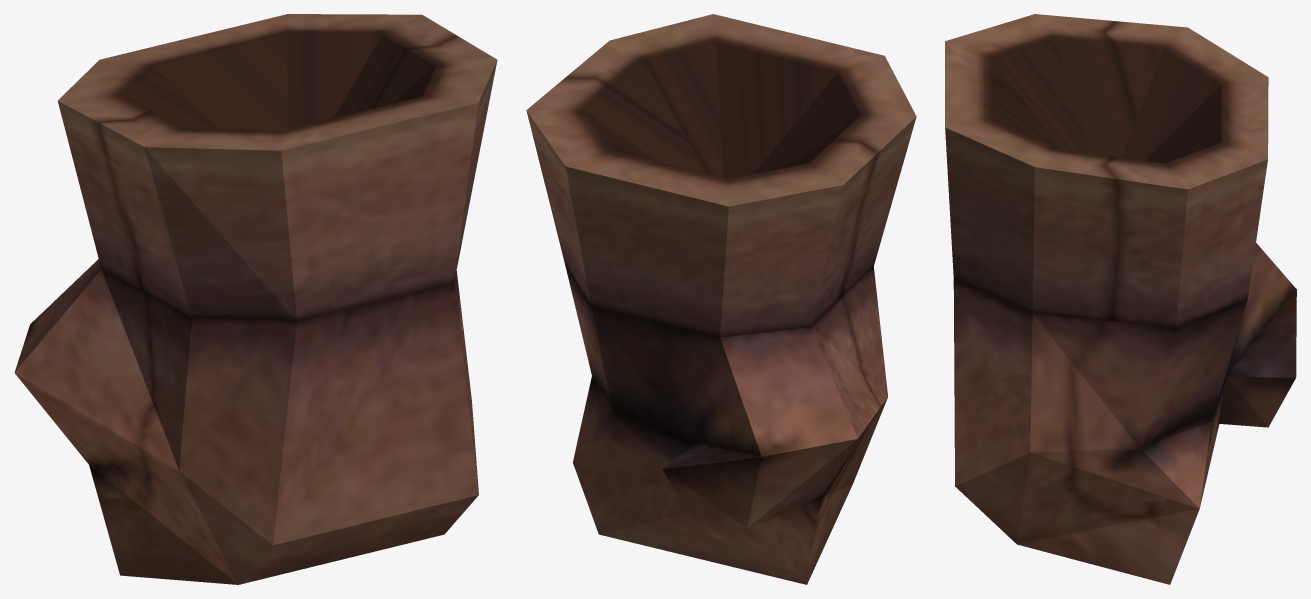
Rendered from Panda_noviceGauntlet_right.obj.
3 views of the same model, side by side, from view 1: azimuth 30°, elevation 25°; view 2: azimuth 150°, elevation 25°; view 3: azimuth 270°, elevation 25° (orthographic). The views are drawn at different scales.
Visible parts, largest first — view 1: Panda_noviceGauntlet_tri [right]; view 2: Panda_noviceGauntlet_tri [right]; view 3: Panda_noviceGauntlet_tri [right].
Boxes of the visible parts, bbox=[...] form: Panda_noviceGauntlet_tri [right]: bbox=[14, 14, 497, 584]; Panda_noviceGauntlet_tri [right]: bbox=[526, 14, 916, 584]; Panda_noviceGauntlet_tri [right]: bbox=[945, 14, 1296, 584].
Size of the model in its own units: 0.1203 by 0.1481 by 0.1038.
Materials: 1 (1 with a texture image).
